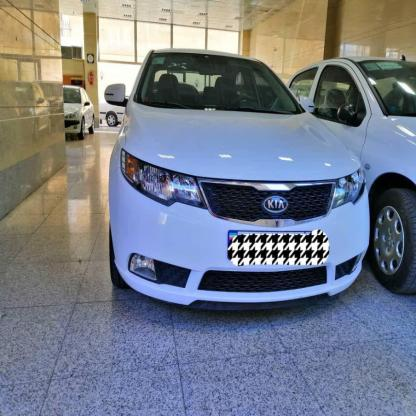Car: (107, 62, 369, 332), (303, 45, 416, 300), (58, 82, 92, 146), (98, 98, 135, 134)
